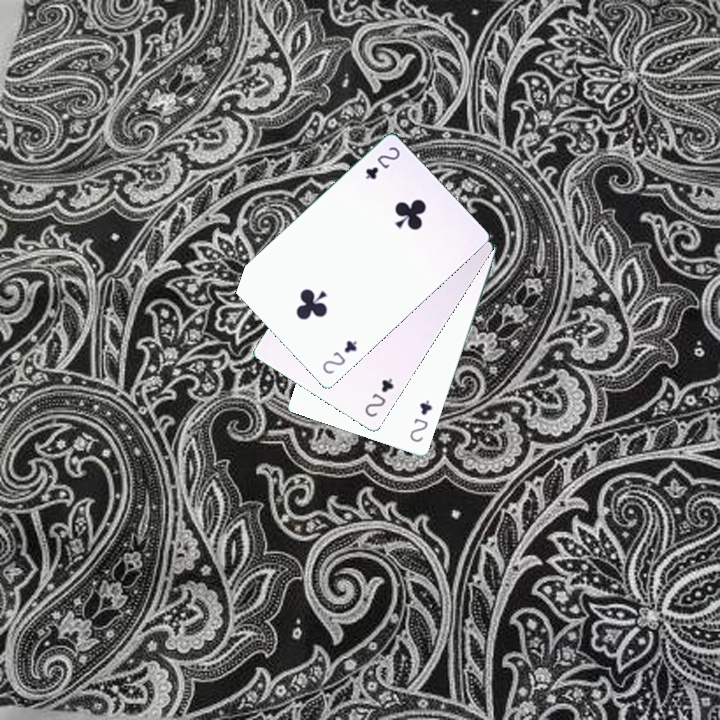2c: (318, 336, 360, 377), (360, 374, 396, 420), (361, 143, 403, 182), (405, 396, 435, 445)
